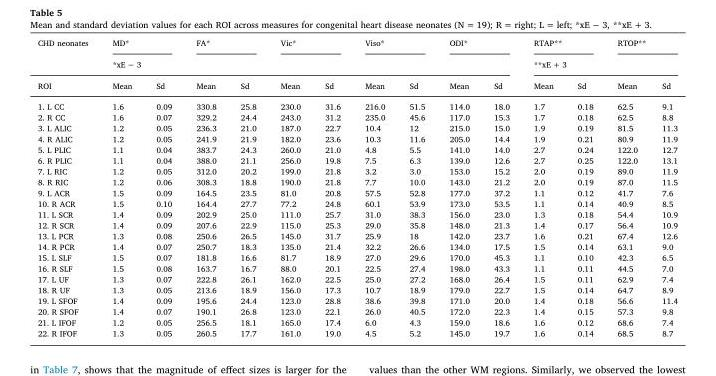table: (36, 37, 677, 337)
table column: (36, 37, 99, 337), (267, 37, 312, 337), (436, 37, 481, 337), (604, 37, 649, 337), (99, 37, 143, 337), (183, 37, 227, 337), (352, 37, 396, 337), (521, 37, 564, 337), (143, 37, 183, 337), (227, 37, 267, 337), (312, 37, 352, 337), (396, 37, 436, 337), (481, 37, 521, 337), (564, 37, 604, 337), (649, 37, 677, 337)
table column header: (36, 37, 677, 95)
table row: (36, 52, 677, 74), (36, 74, 677, 95), (36, 95, 677, 111), (36, 37, 677, 52), (36, 111, 677, 122), (36, 132, 677, 143), (36, 143, 677, 154), (36, 154, 677, 165), (36, 175, 677, 186), (36, 186, 677, 197), (36, 197, 677, 208), (36, 208, 677, 219), (36, 229, 677, 240), (36, 240, 677, 251), (36, 251, 677, 262), (36, 262, 677, 273), (36, 283, 677, 294), (36, 294, 677, 305), (36, 305, 677, 316), (36, 316, 677, 327), (36, 122, 677, 132), (36, 165, 677, 175), (36, 219, 677, 229), (36, 273, 677, 283), (36, 327, 677, 337)
table spanning cell: (99, 52, 521, 74), (36, 37, 99, 95), (521, 52, 677, 74), (267, 37, 352, 52), (436, 37, 521, 52), (99, 37, 183, 52), (183, 37, 267, 52), (352, 37, 436, 52), (521, 37, 604, 52), (604, 37, 677, 52)
